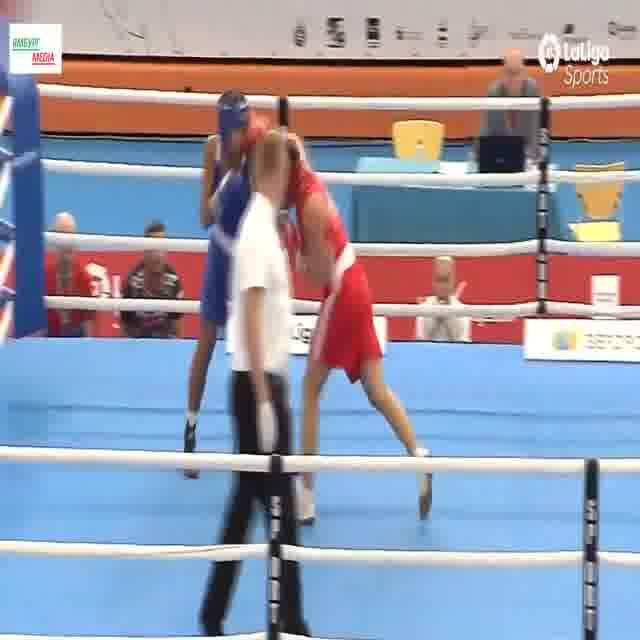blue-player: (178, 86, 294, 486)
red-player: (223, 109, 441, 530)
referee: (198, 126, 314, 640)
